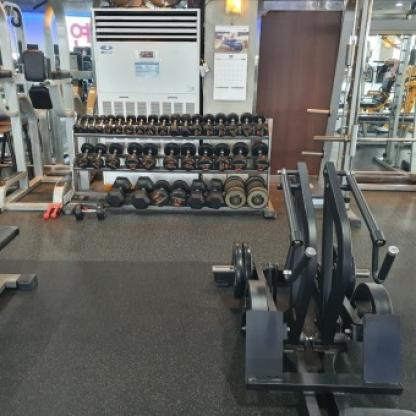seated dip machine: (275, 159, 416, 416)
